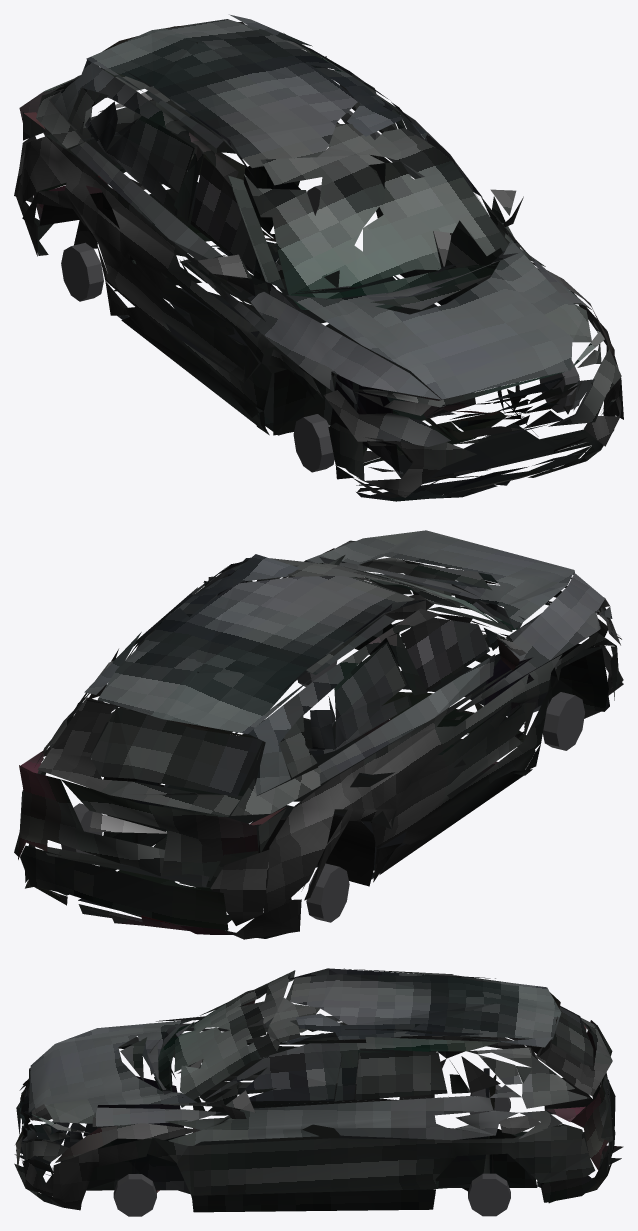
Rendered from suv_f.glb.
3 views of the same model, one above another, from view 1: azimuth 30°, elevation 25°; view 2: azimuth 150°, elevation 25°; view 3: azimuth 270°, elevation 25° (orthographic). The views are drawn at different scales.
Parts seen in each view (by area): view 1: karosserie, rad_hl; view 2: karosserie, rad_hl; view 3: karosserie, rad_hl.
Part boxes in pixels (left/top/right/bottom): karosserie: left=14, top=14, right=623, bottom=501; rad_hl: left=61, top=185, right=579, bottom=472; karosserie: left=14, top=530, right=623, bottom=939; rad_hl: left=61, top=660, right=584, bottom=922; karosserie: left=14, top=968, right=623, bottom=1212; rad_hl: left=113, top=1084, right=510, bottom=1216.
Size of the model in its own units: 2.07 by 1.47 by 4.53.
2 materials, 1 textured.
